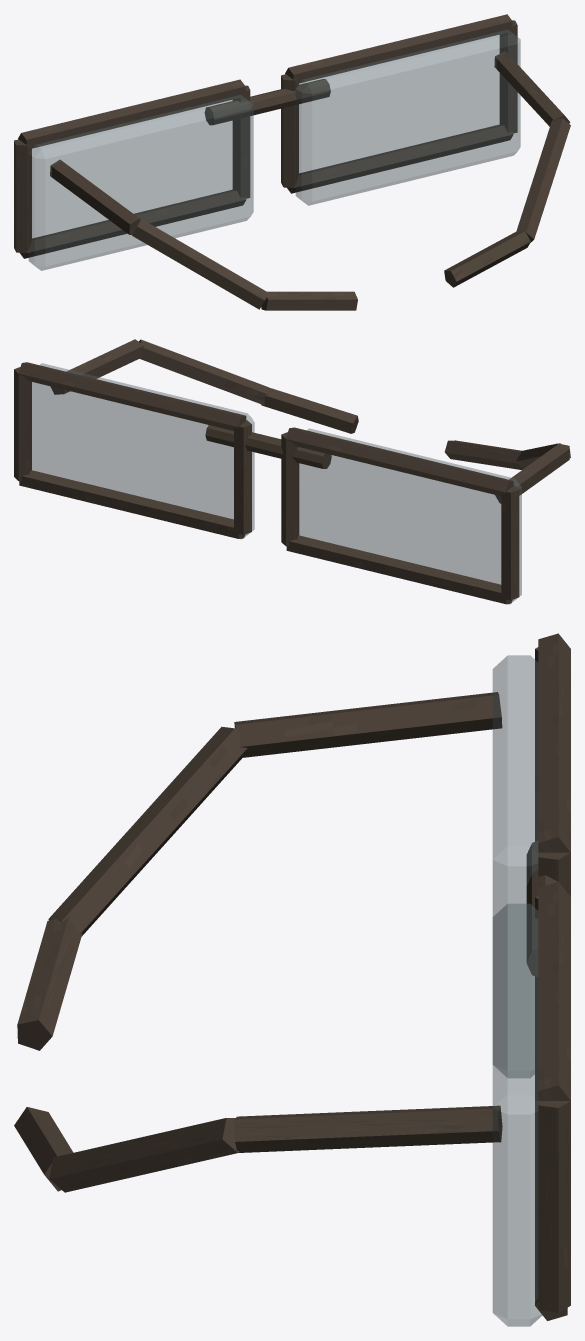
The model's file is fitover_sunglasses.glb.
The picture shows the model from 3 angles, top to bottom: view 1: azimuth 30°, elevation 25°; view 2: azimuth 150°, elevation 25°; view 3: azimuth 270°, elevation 25°; orthographic projection. The views are drawn at different scales.
Visible parts, largest first — view 1: block_lens 1, block_lens -1, block_lens rim -1 1, block_lens rim 1 1, block_lens rim 1 3, block_lens rim -1 3, block_folded temple -1 1, block_folded temple 1 1, block_bridge, block_folded temple -1 0, block_lens rim -1 0, block_folded temple -1 2 (+5 smaller); view 2: block_lens -1, block_lens 1, block_lens rim 1 1, block_lens rim -1 1, block_lens rim 1 3, block_lens rim -1 3, block_folded temple 1 1, block_lens rim -1 0, block_folded temple 1 2, block_lens rim 1 0, block_lens rim -1 2, block_lens rim 1 2 (+5 smaller); view 3: block_lens 1, block_lens -1, block_folded temple 1 0, block_folded temple -1 0, block_folded temple -1 1, block_lens rim -1 1, block_lens rim 1 1, block_folded temple 1 1, block_lens rim 1 2, block_folded temple -1 2, block_folded temple 1 2, block_bridge (+2 smaller).
Boxes of the visible parts, x1,y1,x2,y2 form: block_lens 1: [295, 30, 520, 205]; block_lens -1: [28, 95, 253, 270]; block_lens rim -1 1: [18, 79, 245, 149]; block_lens rim 1 1: [285, 14, 512, 83]; block_lens rim 1 3: [287, 125, 513, 193]; block_lens rim -1 3: [20, 190, 246, 258]; block_folded temple -1 1: [132, 219, 268, 309]; block_folded temple 1 1: [516, 118, 570, 242]; block_bridge: [204, 79, 330, 125]; block_folded temple -1 0: [50, 159, 140, 234]; block_lens rim -1 0: [14, 139, 31, 252]; block_folded temple -1 2: [261, 291, 357, 310]; block_lens -1: [299, 428, 521, 604]; block_lens 1: [31, 363, 254, 539]; block_lens rim 1 1: [18, 362, 246, 430]; block_lens rim -1 1: [286, 427, 513, 496]; block_lens rim 1 3: [19, 470, 244, 538]; block_lens rim -1 3: [286, 535, 512, 604]; block_folded temple 1 1: [139, 339, 268, 404]; block_lens rim -1 0: [501, 485, 519, 600]; block_folded temple 1 2: [261, 387, 358, 433]; block_lens rim 1 0: [234, 420, 251, 534]; block_lens rim -1 2: [281, 432, 299, 546]; block_lens rim 1 2: [14, 367, 31, 480]; block_lens 1: [492, 903, 542, 1326]; block_lens -1: [492, 655, 538, 1077]; block_folded temple 1 0: [234, 1105, 502, 1152]; block_folded temple -1 0: [234, 692, 502, 757]; block_folded temple -1 1: [48, 726, 247, 936]; block_lens rim -1 1: [538, 633, 570, 852]; block_lens rim 1 1: [538, 881, 570, 1100]; block_folded temple 1 1: [49, 1118, 239, 1192]; block_lens rim 1 2: [538, 1101, 570, 1312]; block_folded temple -1 2: [17, 917, 82, 1050]; block_folded temple 1 2: [14, 1107, 73, 1191]; block_bridge: [526, 841, 557, 976].
Size of the model in its own units: 0.1466 by 0.0363 by 0.074.
2 materials, 2 textured.
